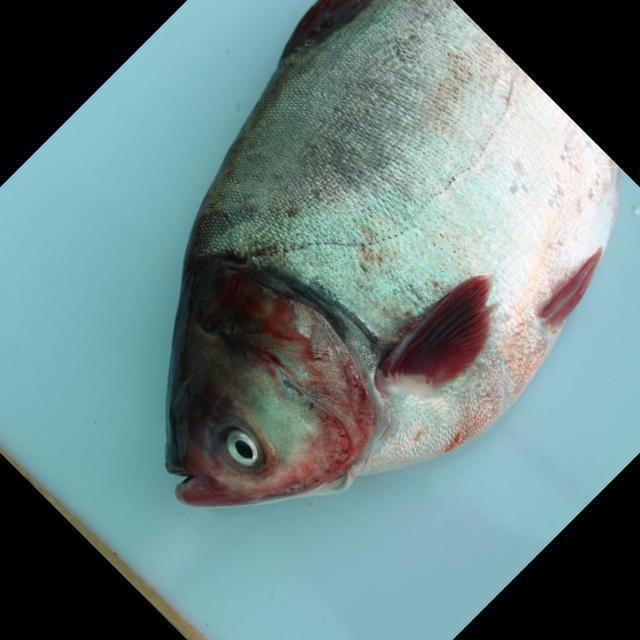SilverCarp: (140, 5, 640, 509)
